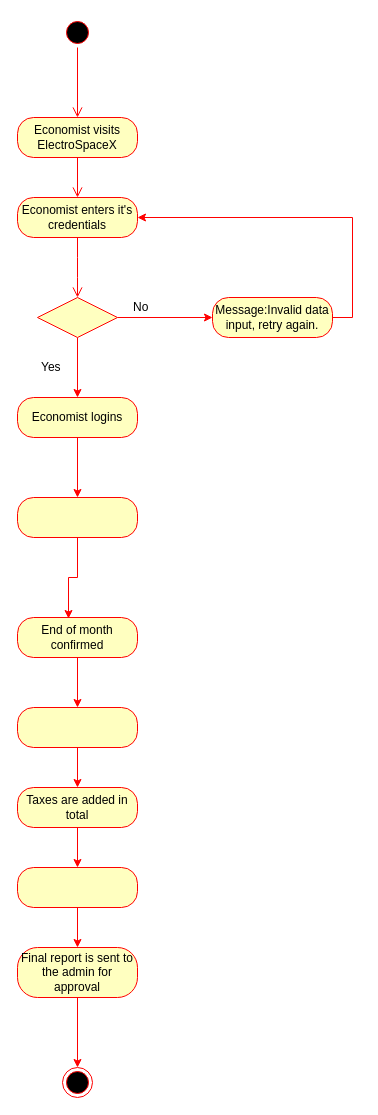
Image size: 378x1115. Some labels were removed from this diagram. The shapes that lost their labels are listed below. From the top down, each one's box as (x1, y1, x2, y2) in pixels, then its label:
(16, 496, 138, 538): Economist generates reports
(16, 706, 138, 748): Calculating total month balance
(16, 866, 138, 908): Wages of employees calculated
